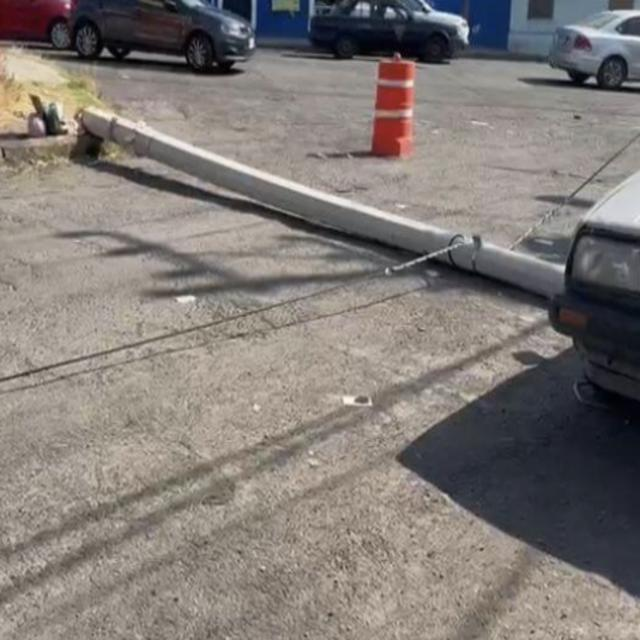Inclined Pole: (69, 102, 569, 306)
